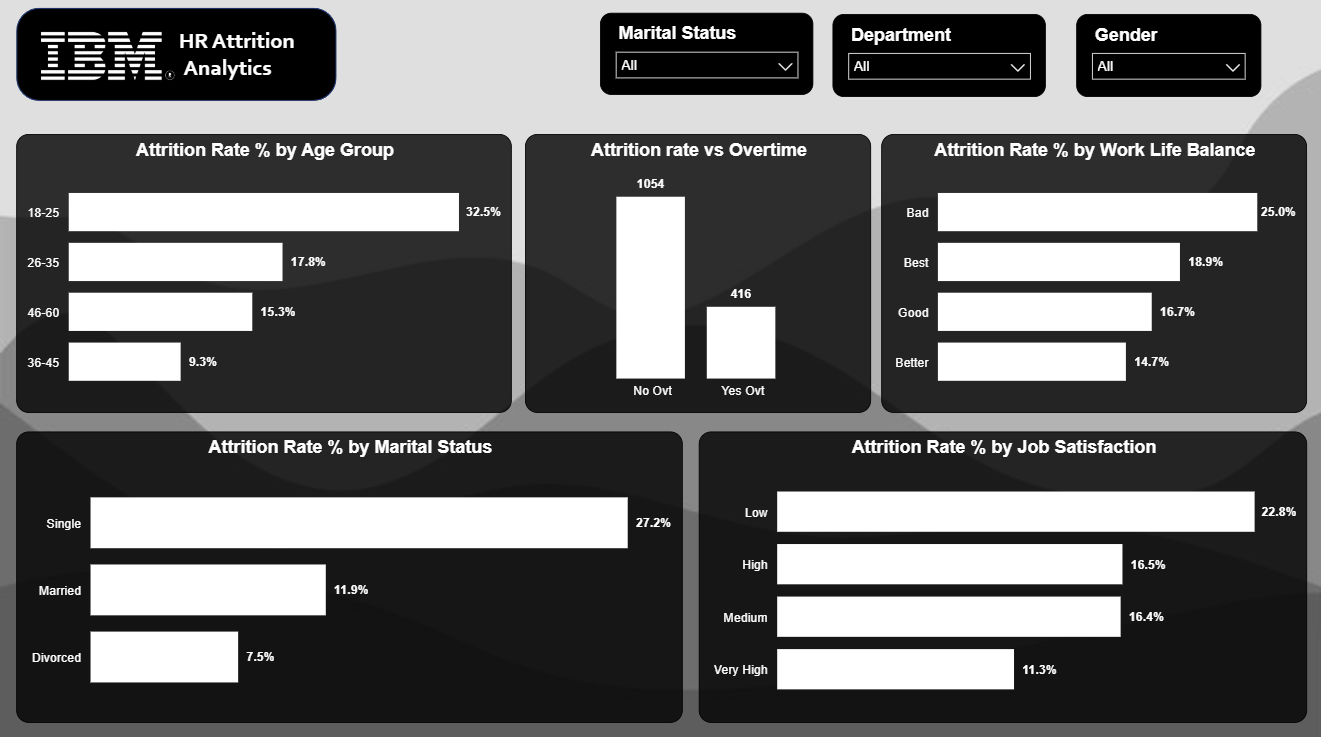

This screenshot's page, from the dashboard's own definition file:
{"tool":"powerbi","page":{"name":"People & Job factors","canvas":[1280,720],"ordinal":1},"visuals":[{"type":"shape","box":[15.9,13,308.7,89.9],"z":0},{"type":"image","box":[38.2,25,130.9,69.1],"z":1000},{"type":"columnChart","title":"Attrition rate vs Overtime","fields":{"Category":["clean_hr_analytics.over_time"],"Y":["CountNonNull(clean_hr_analytics.over_time)"]},"box":[505.9,135.3,333.8,269.1],"z":2000},{"type":"clusteredBarChart","title":"Attrition Rate % by Age Group","fields":{"Category":["clean_hr_analytics.age_group"],"Y":["_Measures.Attrition Rate %"]},"box":[16.2,135.3,477.9,269.1],"z":3000},{"type":"slicer","fields":{"Values":["clean_hr_analytics.department"]},"box":[802.9,18.8,205.8,79.7],"z":4000},{"type":"slicer","fields":{"Values":["clean_hr_analytics.gender"]},"box":[1037.7,18.8,178.3,79.7],"z":5000},{"type":"textbox","box":[167.6,27.9,195.6,70.6],"z":6000},{"type":"slicer","fields":{"Values":["clean_hr_analytics.marital_status"]},"box":[577.9,17.6,205.9,79.4],"z":7000},{"type":"clusteredBarChart","title":"Attrition Rate % by Marital Status","fields":{"Y":["_Measures.Attrition Rate %"],"Category":["clean_hr_analytics.marital_status"]},"box":[16.2,422.1,642.6,280.9],"z":8000},{"type":"clusteredBarChart","title":"Attrition Rate % by Job Satisfaction","fields":{"Category":["clean_hr_analytics.job_satisfaction"],"Y":["_Measures.Attrition Rate %"]},"box":[673.5,422.1,586.8,280.9],"z":9000},{"type":"clusteredBarChart","title":"Attrition Rate % by Work Life Balance","fields":{"Y":["_Measures.Attrition Rate %"],"Category":["clean_hr_analytics.work_life_balance"]},"box":[850,135.3,410.3,269.1],"z":10000}]}

Visuals, with their boxes in screenshot pixels (x1, y1, x2, y2), scaled from the page's 1280x720 canvas onto the 1321x737 screenshot:
shape: {"x1": 16, "y1": 13, "x2": 335, "y2": 105}
image: {"x1": 39, "y1": 26, "x2": 175, "y2": 96}
"Attrition rate vs Overtime" columnChart: {"x1": 522, "y1": 138, "x2": 867, "y2": 414}
"Attrition Rate % by Age Group" clusteredBarChart: {"x1": 17, "y1": 138, "x2": 510, "y2": 414}
slicer - clean_hr_analytics.department: {"x1": 829, "y1": 19, "x2": 1041, "y2": 101}
slicer - clean_hr_analytics.gender: {"x1": 1071, "y1": 19, "x2": 1255, "y2": 101}
textbox: {"x1": 173, "y1": 29, "x2": 375, "y2": 101}
slicer - clean_hr_analytics.marital_status: {"x1": 596, "y1": 18, "x2": 809, "y2": 99}
"Attrition Rate % by Marital Status" clusteredBarChart: {"x1": 17, "y1": 432, "x2": 680, "y2": 720}
"Attrition Rate % by Job Satisfaction" clusteredBarChart: {"x1": 695, "y1": 432, "x2": 1301, "y2": 720}
"Attrition Rate % by Work Life Balance" clusteredBarChart: {"x1": 877, "y1": 138, "x2": 1301, "y2": 414}
